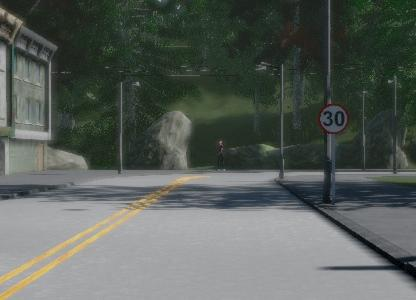Speed_30: (316, 99, 350, 137)
